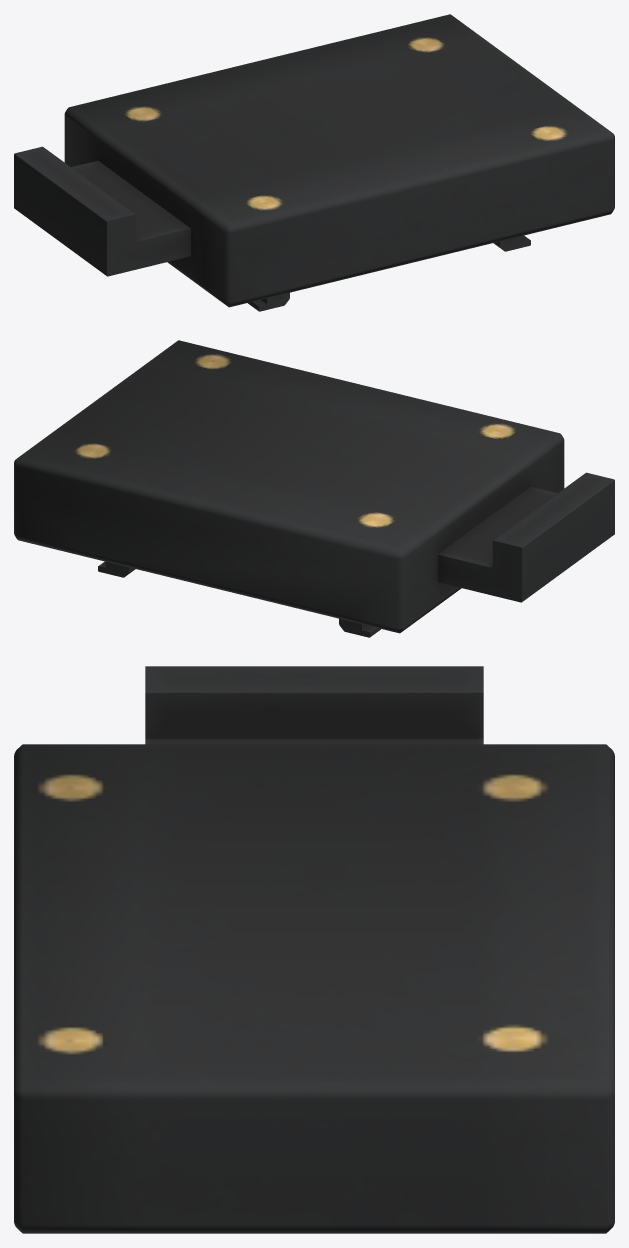
The model's file is QiDongDiZuo01.fbx.
3 views of the same model, one above another, from view 1: azimuth 30°, elevation 25°; view 2: azimuth 150°, elevation 25°; view 3: azimuth 270°, elevation 25° (orthographic). The views are drawn at different scales.
Parts seen in each view (by area): view 1: QiDongDiZuo; view 2: QiDongDiZuo; view 3: QiDongDiZuo.
Boxes of the visible parts, x1,y1,x2,y2 form: QiDongDiZuo: (14, 14, 614, 311); QiDongDiZuo: (14, 340, 614, 637); QiDongDiZuo: (14, 666, 614, 1233).
Bounding box in the file's own units: 8.99 × 1.93 × 5.42.
